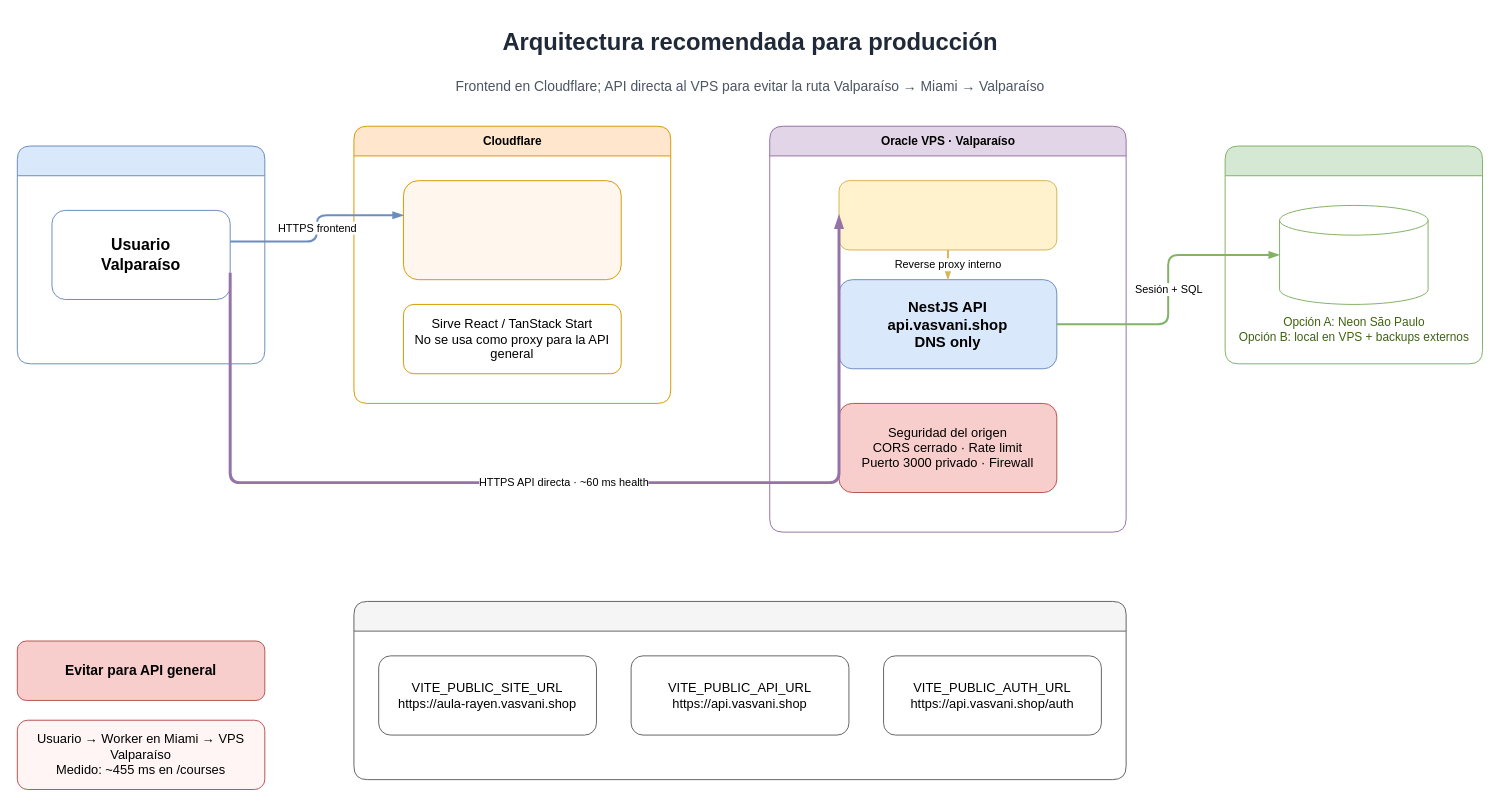
The diagram is 1500 pixels wide and 807 high, and some of its shapes have lost their labels. Here are the shapes that lost their labels. From the top down, the box of each, then its label:
(402, 180, 621, 280): Frontend Worker aula-rayen.vasvani.shop Proxied
(838, 180, 1057, 250): Traefik HTTPS :443
(16, 145, 265, 364): Cliente
(1279, 204, 1428, 304): PostgreSQL
(1224, 145, 1483, 364): Datos
(353, 600, 1126, 780): Variables de producción
